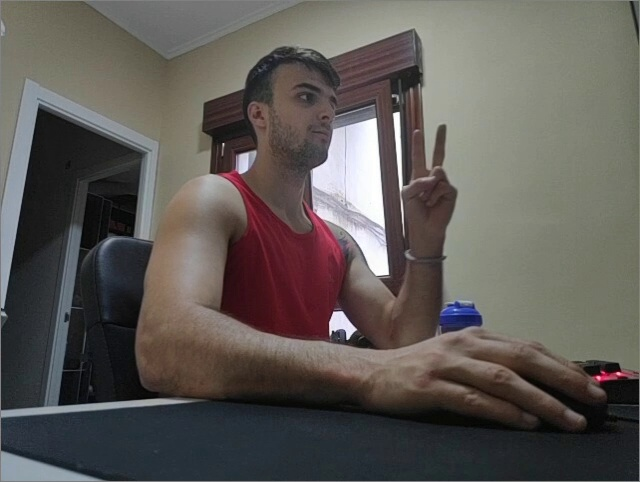Peace: (399, 123, 458, 238)
